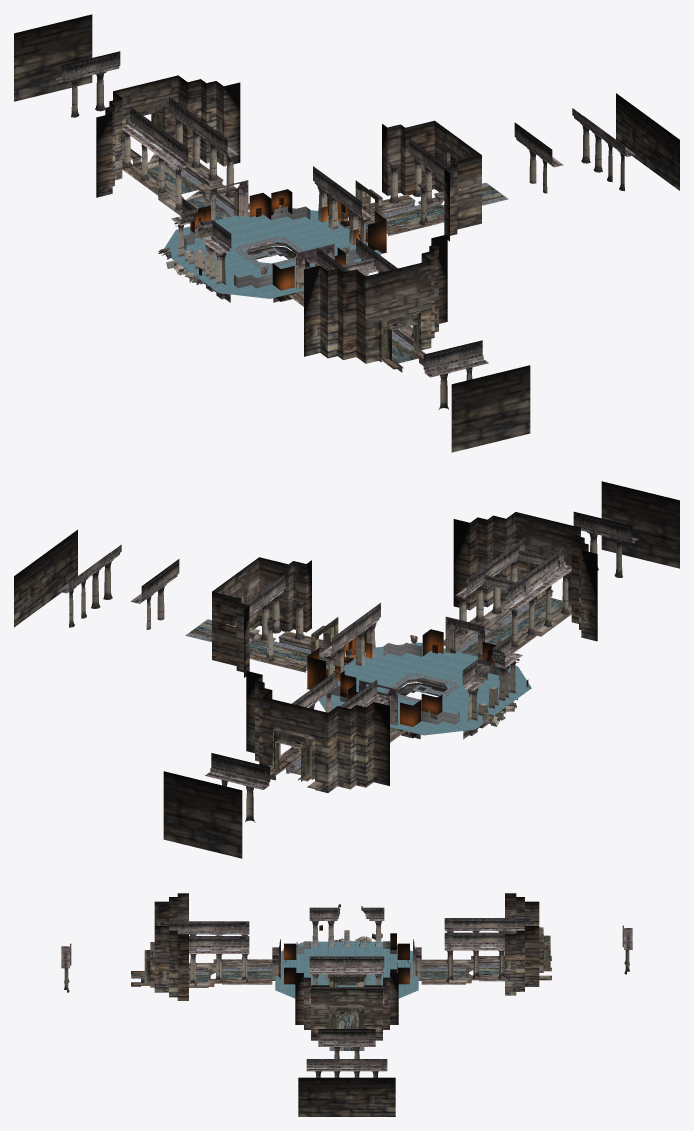
The model's file is stage_m099.glb.
3 views of the same model, one above another, from view 1: azimuth 30°, elevation 25°; view 2: azimuth 150°, elevation 25°; view 3: azimuth 270°, elevation 25° (orthographic). The views are drawn at different scales.
Parts seen in each view (by area): view 1: g0p36, g0p16, g0p47, g1p01, g0p21, g0p40, g0p15, g0p53, g0p51, g1p00, g0p22, g0p49 (+11 smaller); view 2: g0p16, g0p36, g0p47, g1p01, g0p40, g0p21, g0p35, g0p53, g0p51, g0p39, g1p02, g0p22 (+12 smaller); view 3: g0p47, g0p36, g0p16, g1p01, g0p21, g0p40, g0p51, g0p43, g0p15, g0p39, g0p35, g0p26 (+10 smaller).
Boxes of the visible parts, <box> form: g0p36: <box>289,234,530,452</box>; g0p16: <box>14,14,249,215</box>; g0p47: <box>370,93,679,241</box>; g1p01: <box>164,207,381,298</box>; g0p21: <box>55,51,238,169</box>; g0p40: <box>305,238,488,377</box>; g0p15: <box>71,71,236,210</box>; g0p53: <box>387,123,624,225</box>; g0p51: <box>408,108,636,190</box>; g1p00: <box>183,206,363,288</box>; g0p22: <box>158,217,226,284</box>; g0p49: <box>358,183,508,234</box>; g0p16: <box>163,671,404,858</box>; g0p36: <box>443,481,679,652</box>; g0p47: <box>14,529,323,677</box>; g1p01: <box>318,642,531,735</box>; g0p40: <box>455,511,638,610</box>; g0p21: <box>205,670,388,789</box>; g0p35: <box>456,532,622,647</box>; g0p53: <box>69,559,306,661</box>; g0p51: <box>57,544,285,626</box>; g0p39: <box>459,597,562,656</box>; g1p02: <box>340,671,442,737</box>; g0p22: <box>467,653,519,726</box>; g0p47: <box>295,973,398,1116</box>; g0p36: <box>131,893,272,1000</box>; g0p16: <box>421,893,551,995</box>; g1p01: <box>275,941,418,998</box>; g0p21: <box>444,918,632,950</box>; g0p40: <box>61,921,249,968</box>; g0p51: <box>306,987,387,1071</box>; g0p43: <box>309,956,384,974</box>; g0p15: <box>446,931,631,982</box>; g0p39: <box>141,968,275,982</box>; g0p35: <box>62,934,248,992</box>; g0p26: <box>309,904,384,920</box>.
Bounding box in the file's own units: 143 × 31.3 × 232.
25 materials, 25 textured.
